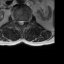CCS_normal: (20, 18, 22, 26)
LFS_stenosis: (25, 18, 26, 24)
LLS_normal: (22, 19, 24, 25)
RFS_stenosis: (16, 18, 18, 24)
RLS_normal: (18, 19, 20, 25)
